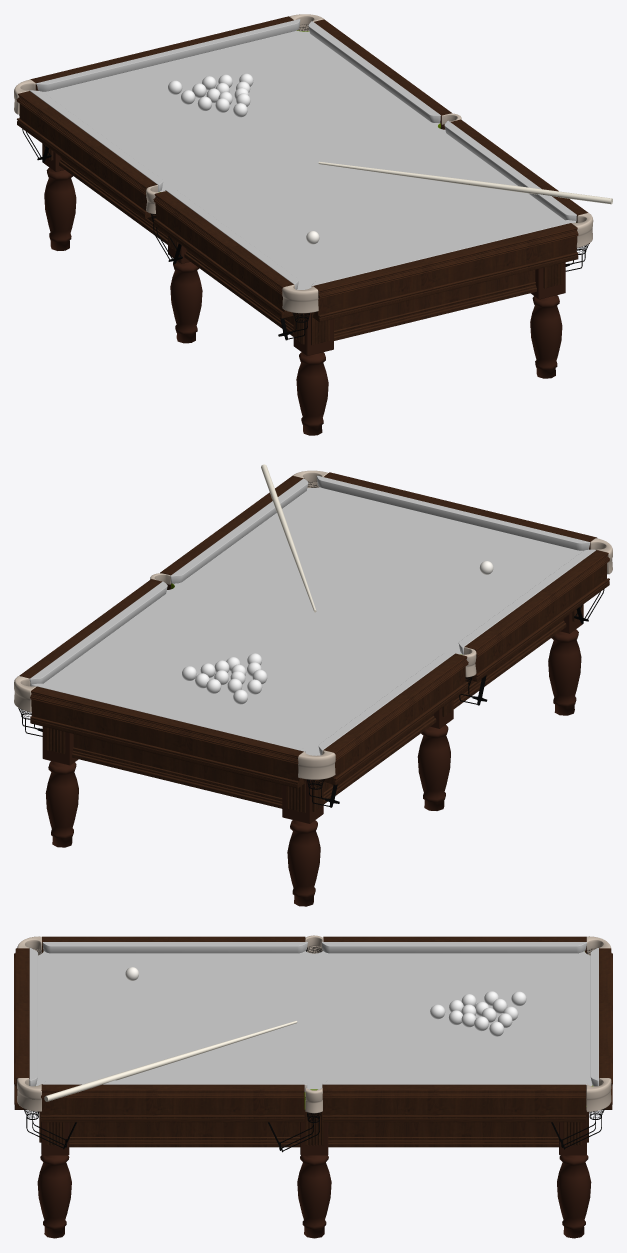
File: taiqiu 0.fbx
3 renders of one model, top to bottom at view 1: azimuth 30°, elevation 25°; view 2: azimuth 150°, elevation 25°; view 3: azimuth 270°, elevation 25°, orthographic. The views are drawn at different scales.
Visible parts, largest first — view 1: ARCHMODELS_47_053_45, polySurface26, polySurface42, polySurface34, Cylinder44, polySurface43; view 2: ARCHMODELS_47_053_45, polySurface26, polySurface42, polySurface34, polySurface43, Cylinder44; view 3: ARCHMODELS_47_053_45, polySurface26, polySurface42, polySurface34, Cylinder44, polySurface43.
Boxes of the visible parts, bbox=[...] form: ARCHMODELS_47_053_45: bbox=[42, 30, 564, 289]; polySurface26: bbox=[16, 16, 589, 435]; polySurface42: bbox=[30, 19, 576, 289]; polySurface34: bbox=[14, 14, 593, 313]; Cylinder44: bbox=[318, 161, 612, 204]; polySurface43: bbox=[22, 25, 588, 340]; ARCHMODELS_47_053_45: bbox=[43, 487, 583, 755]; polySurface26: bbox=[19, 472, 609, 906]; polySurface42: bbox=[29, 475, 595, 754]; polySurface34: bbox=[14, 470, 612, 779]; polySurface43: bbox=[18, 482, 607, 807]; Cylinder44: bbox=[261, 464, 316, 612]; ARCHMODELS_47_053_45: bbox=[36, 951, 592, 1089]; polySurface26: bbox=[14, 936, 612, 1238]; polySurface42: bbox=[29, 942, 598, 1091]; polySurface34: bbox=[17, 935, 611, 1113]; Cylinder44: bbox=[44, 1020, 297, 1101]; polySurface43: bbox=[23, 947, 604, 1152].
Bounding box in the file's own units: 747 × 349 × 1119.
